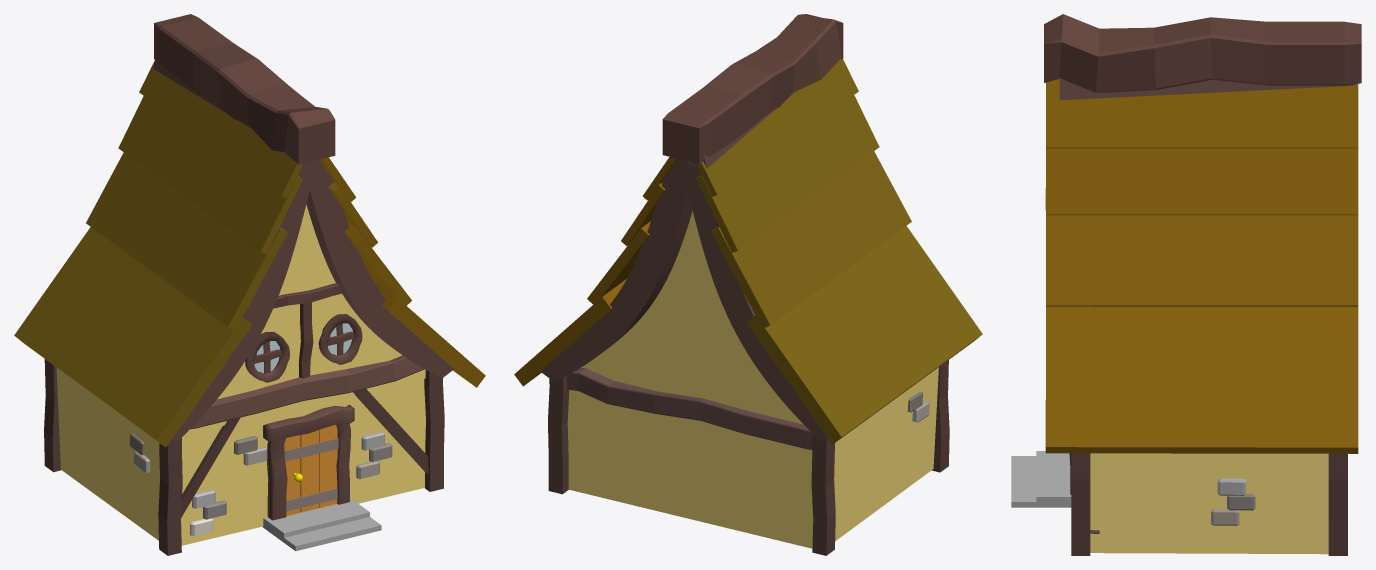
File: cottage_house_4.glb
3 views of the same model, side by side, from view 1: azimuth 30°, elevation 25°; view 2: azimuth 150°, elevation 25°; view 3: azimuth 270°, elevation 25° (orthographic). The views are drawn at different scales.
Visible parts, largest first — view 1: Cube.009, Cube.001, Cube.006, Cube.005, NurbsPath.003, Cube.026, NurbsPath.002, Cube.013, Cube.010, Cube.017, Cube.024, Cube.021 (+8 smaller); view 2: Cube.009, Cube.001, Cube.005, Cube.006, NurbsPath.003, Cube.026, Cube.051, NurbsPath.002, Cube.010; view 3: Cube.010, Cube.001, Cube.006, Cube.026, Cube.024, NurbsPath.003, Cube.045, Cube.047, Cube.046.
Boxes of the visible parts, x1,y1,x2,y2 form: Cube.009: (14,60,302,447); Cube.001: (56,368,425,545); Cube.006: (154,14,335,164); Cube.005: (185,204,425,434); NurbsPath.003: (306,160,453,377); Cube.026: (44,359,444,555); NurbsPath.002: (153,55,317,440); Cube.013: (190,355,424,429); Cube.010: (319,157,485,387); Cube.017: (263,404,354,520); Cube.024: (262,498,381,551); Cube.021: (284,424,337,515); Cube.009: (696,58,982,444); Cube.001: (567,367,938,548); Cube.005: (581,211,803,424); Cube.006: (662,14,843,163); NurbsPath.003: (540,158,694,381); Cube.026: (548,360,949,555); Cube.051: (566,368,812,449); NurbsPath.002: (688,91,827,440); Cube.010: (514,157,676,386); Cube.010: (1045,78,1358,453); Cube.001: (1090,453,1328,554); Cube.006: (1044,14,1361,92); Cube.026: (1071,453,1347,555); Cube.024: (1011,451,1071,507); NurbsPath.003: (1059,78,1355,100); Cube.045: (1217,478,1245,495); Cube.047: (1211,509,1239,525); Cube.046: (1227,493,1255,510).
Bounding box in the file's own units: 7.94 × 9.6 × 6.66.
